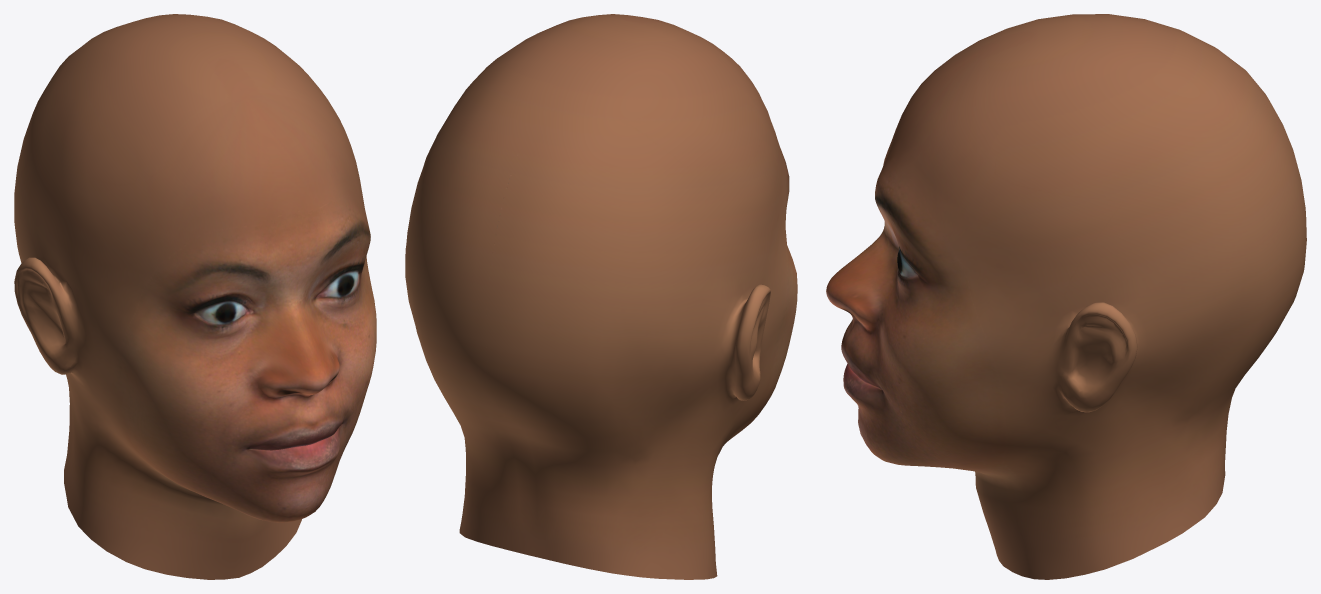
The model's file is v332_obj_ModifierBrowUpLeft.obj.
3 renders of one model, left to right at view 1: azimuth 30°, elevation 25°; view 2: azimuth 150°, elevation 25°; view 3: azimuth 270°, elevation 25°, orthographic. The views are drawn at different scales.
Parts seen in each view (by area): view 1: HeadHires; view 2: HeadHires; view 3: HeadHires.
Part boxes in pixels (x1,y1,x2,y2): HeadHires: (14, 14, 376, 579); HeadHires: (405, 14, 797, 579); HeadHires: (826, 14, 1306, 579).
Size of the model in its own units: 187 by 282 by 233.
